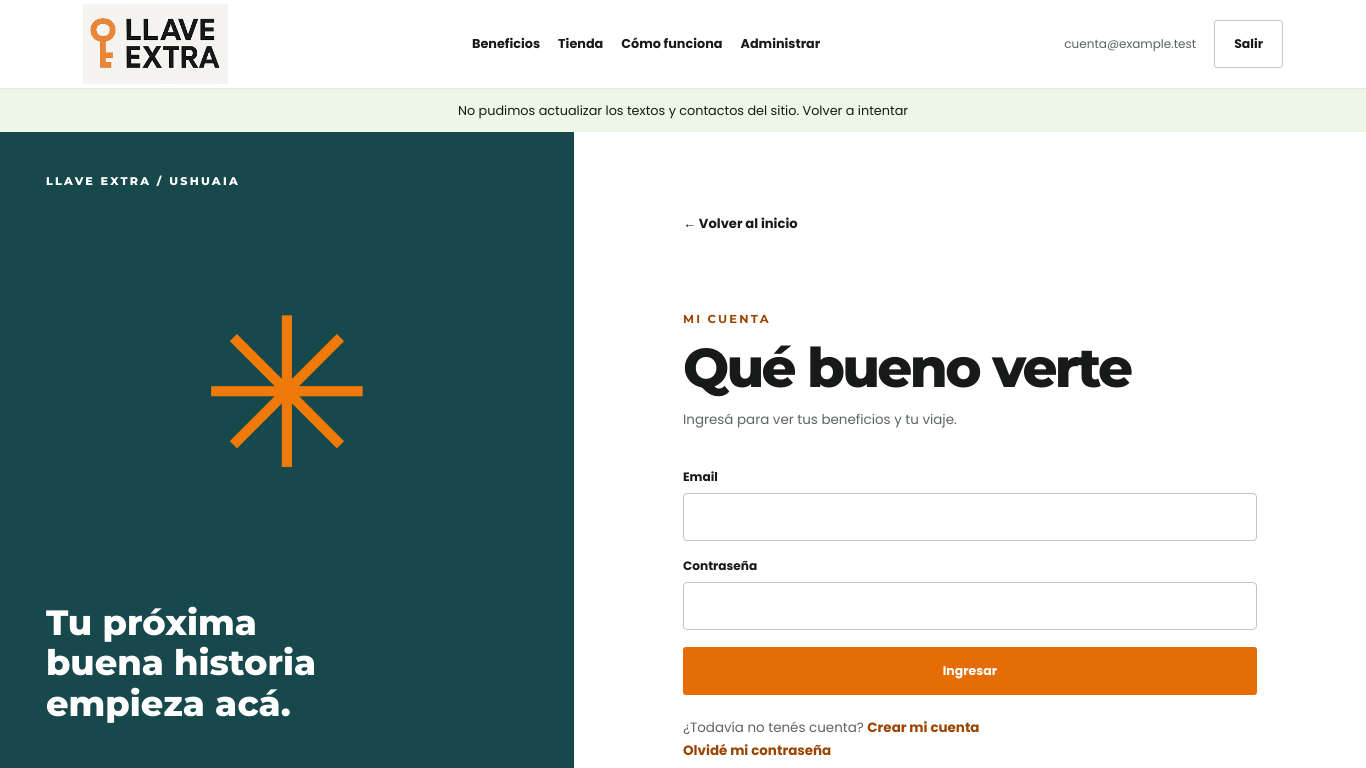
it: paneles operativos por rol › abre el panel React del Administrador después del login
Expected: the heading "Qué bueno verte" is shown, [683,334,1130,401]
In the field labelled "Email": (970, 517) [683,493,1257,541], type "otra@example.test"
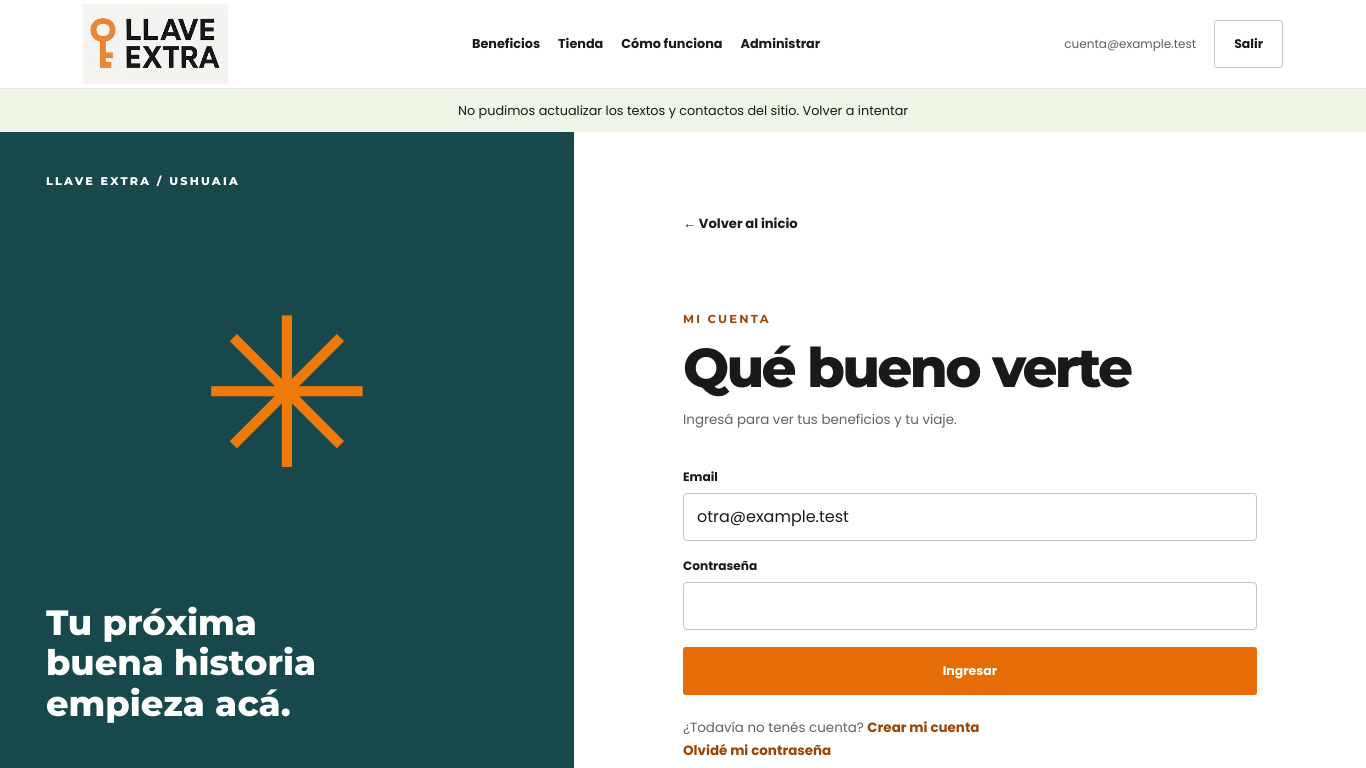
In the password field labelled "Contraseña": (970, 606) [683,582,1257,630], type "Clave-ejemplo-123!"
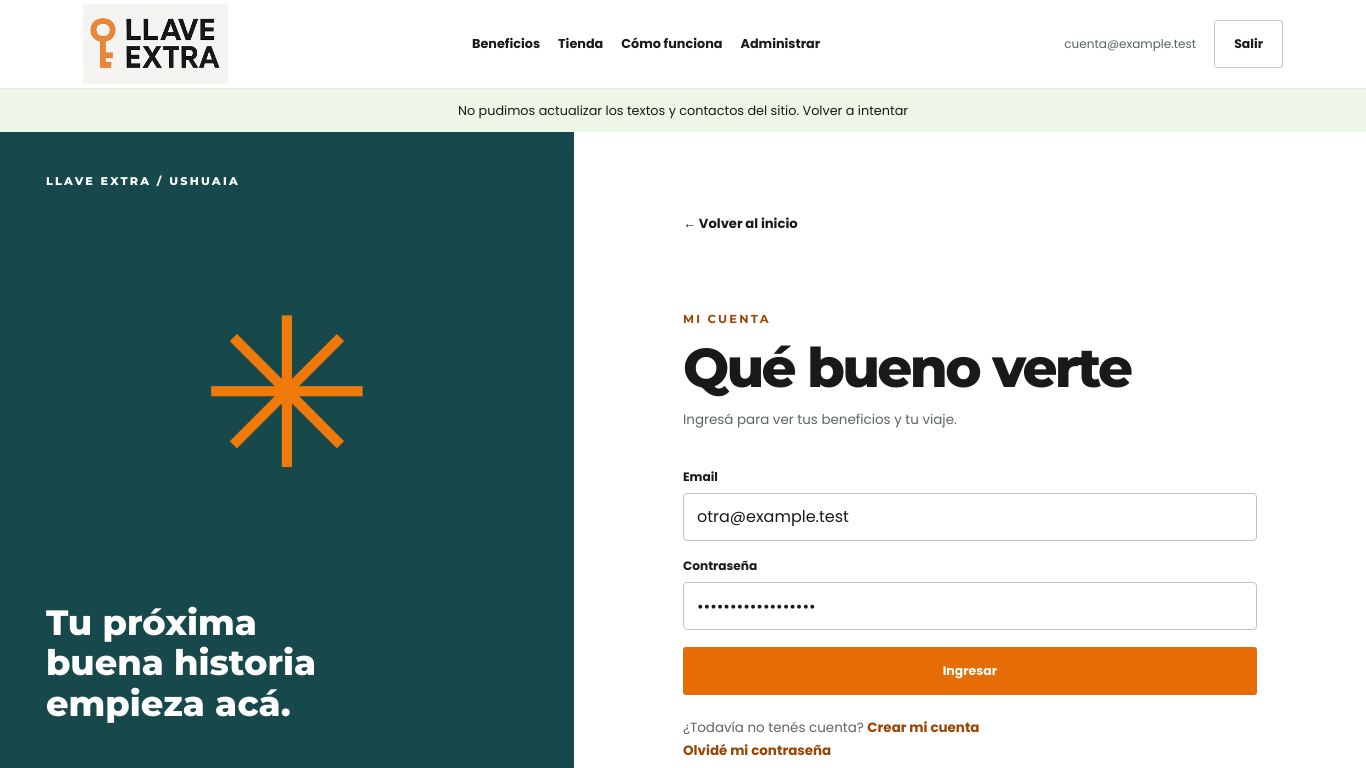
Click the button "Ingresar": click(970, 671) [683,647,1257,695]
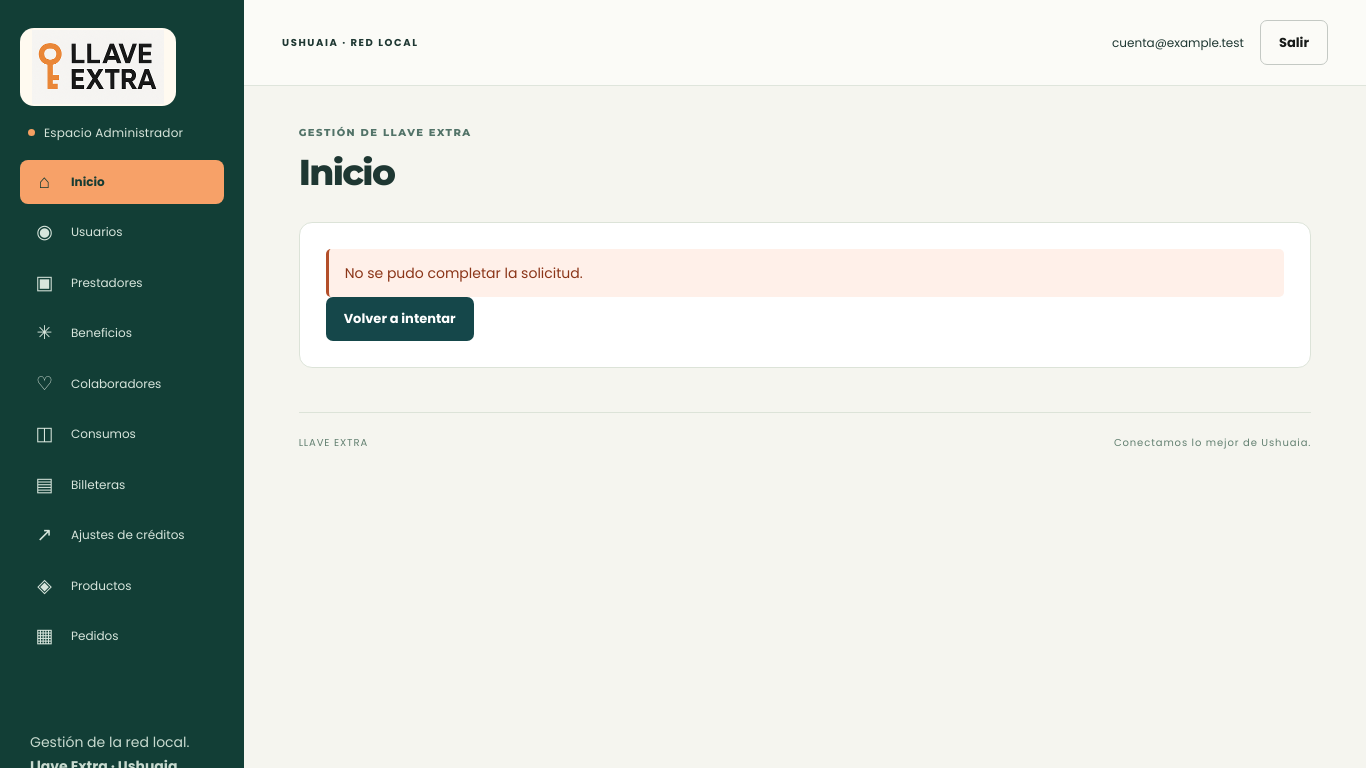
Expected: the navigation bar named "Panel de administración" is shown, [20,160,224,668]
